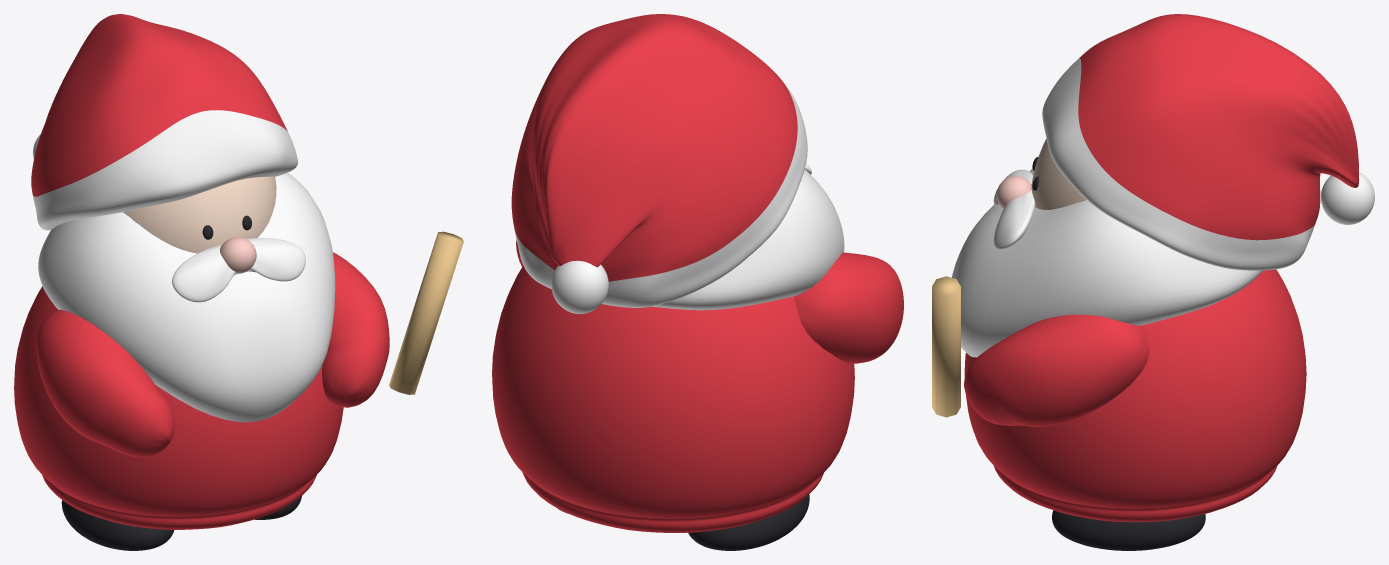
File: churros.glb
3 views of the same model, side by side, from view 1: azimuth 30°, elevation 25°; view 2: azimuth 150°, elevation 25°; view 3: azimuth 270°, elevation 25° (orthographic). The views are drawn at different scales.
Parts seen in each view (by area): view 1: churros_red, churros_white, churros_skin, churros_bread, churros_black, churros_nose; view 2: churros_red, churros_white, churros_black; view 3: churros_red, churros_white, churros_black, churros_bread, churros_skin, churros_nose.
Boxes of the visible parts, <box> form: churros_red: <box>14,14,389,529</box>; churros_white: <box>33,110,335,422</box>; churros_skin: <box>123,176,276,253</box>; churros_bread: <box>389,231,463,394</box>; churros_black: <box>61,215,301,550</box>; churros_nose: <box>220,237,256,273</box>; churros_red: <box>492,14,903,532</box>; churros_white: <box>514,81,844,313</box>; churros_black: <box>558,494,809,550</box>; churros_red: <box>964,14,1359,522</box>; churros_white: <box>952,57,1374,357</box>; churros_black: <box>1032,157,1205,550</box>; churros_bread: <box>932,276,960,417</box>; churros_skin: <box>1031,139,1086,209</box>; churros_nose: <box>996,176,1031,209</box>.
Bounding box in the file's own units: 2.34 × 2.96 × 2.46.
